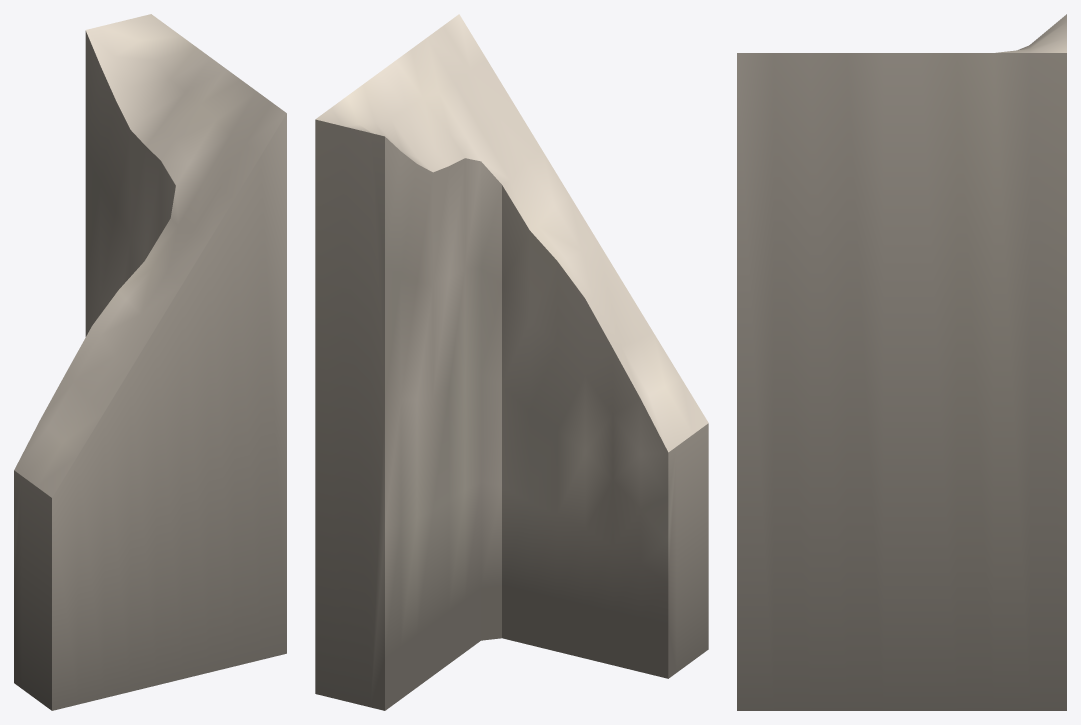
The model's file is SM_VKI_Rock_Cave_CFFO_WallN.fbx.
3 renders of one model, left to right at view 1: azimuth 30°, elevation 25°; view 2: azimuth 150°, elevation 25°; view 3: azimuth 270°, elevation 25°, orthographic. The views are drawn at different scales.
Visible parts, largest first — view 1: SM_VKI_Rock_Cave_CFFO_WallN.001; view 2: SM_VKI_Rock_Cave_CFFO_WallN.001; view 3: SM_VKI_Rock_Cave_CFFO_WallN.001.
Boxes of the visible parts, x1,y1,x2,y2 form: SM_VKI_Rock_Cave_CFFO_WallN.001: (14,14,286,710); SM_VKI_Rock_Cave_CFFO_WallN.001: (315,14,708,710); SM_VKI_Rock_Cave_CFFO_WallN.001: (737,14,1066,710).
Size of the model in its own units: 1.5 by 3.3 by 1.5.
